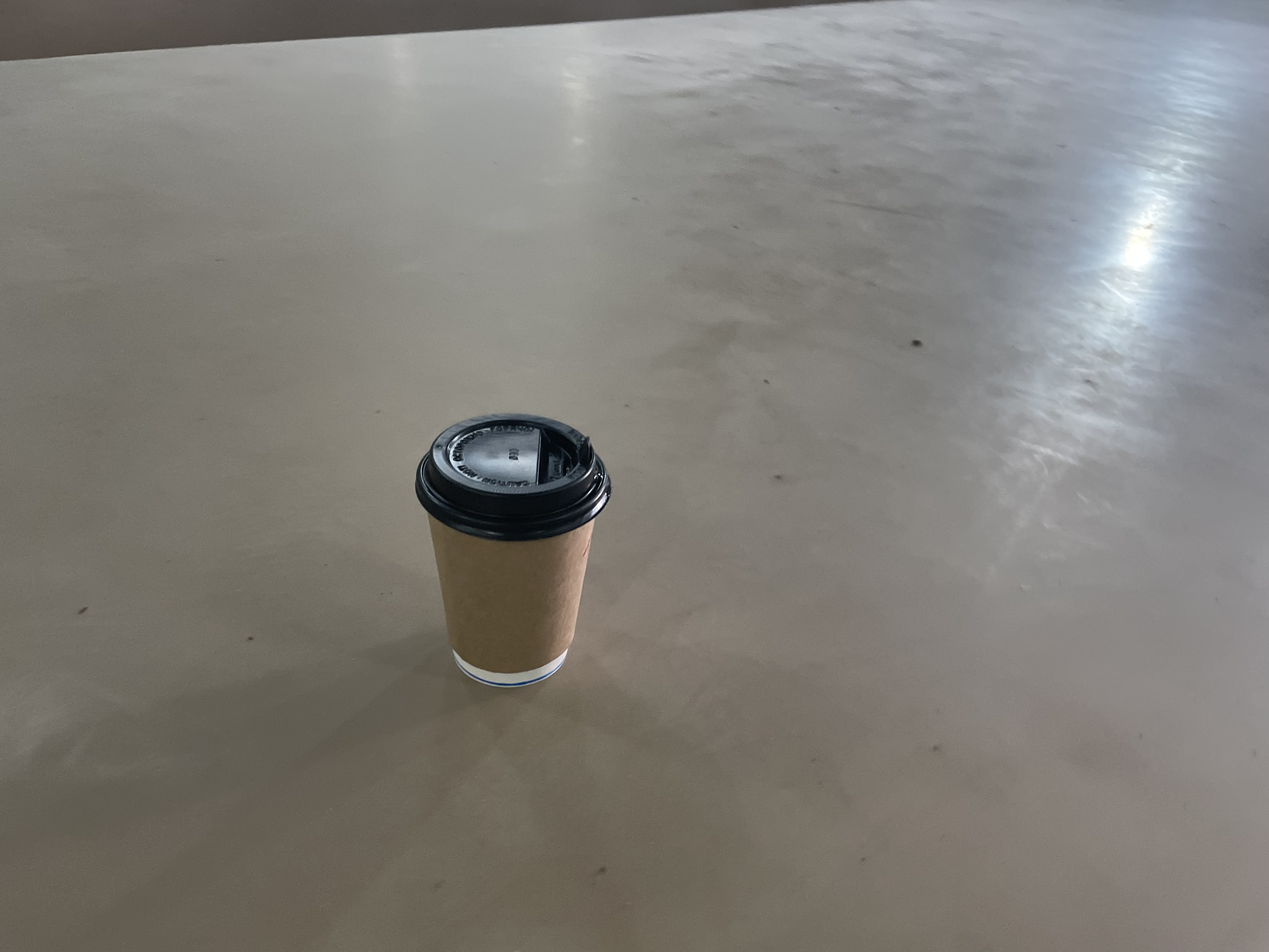cup: (416, 413, 613, 690)
